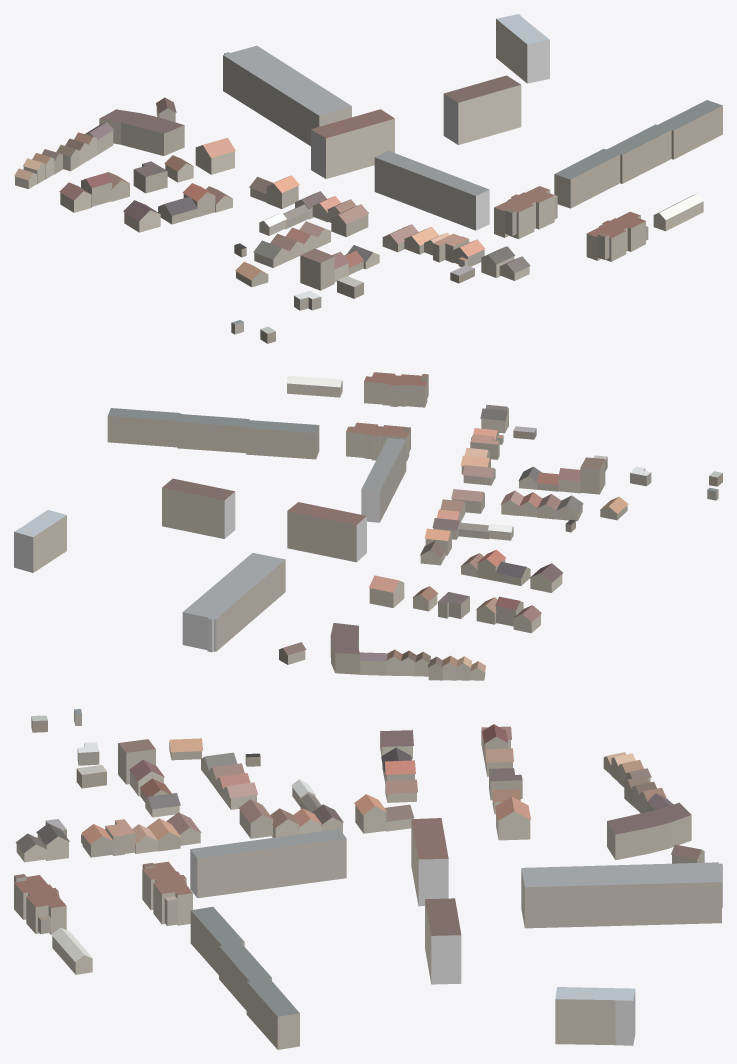
3 renders of one model, top to bottom at view 1: azimuth 30°, elevation 25°; view 2: azimuth 150°, elevation 25°; view 3: azimuth 270°, elevation 25°, orthographic. The views are drawn at different scales.
Parts seen in each view (by area): view 1: tuile; view 2: tuile; view 3: tuile.
Boxes of the visible parts, x1,y1,x2,y2 form: tuile: [14, 14, 722, 343]; tuile: [14, 372, 722, 680]; tuile: [14, 709, 722, 1049].
Size of the model in its own units: 276 by 29.27 by 256.
